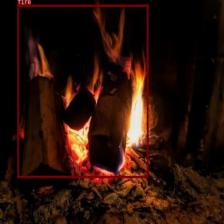fire: (17, 4, 148, 178)
